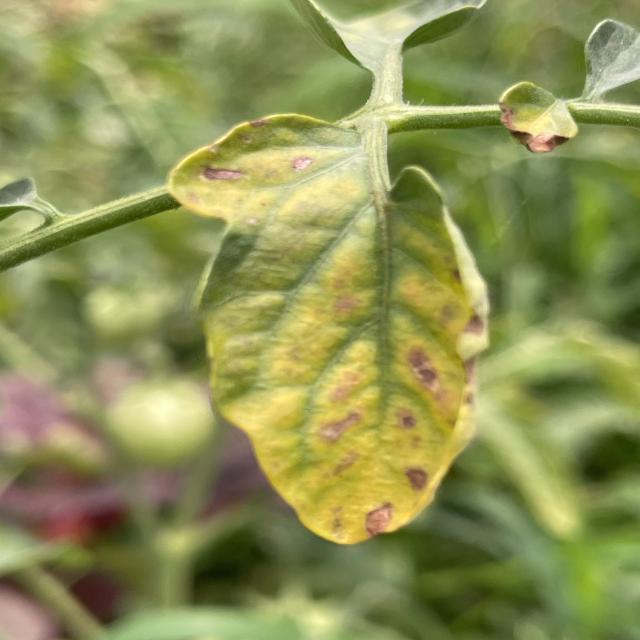tomato_early blight: (161, 105, 502, 544), (494, 73, 580, 157)
